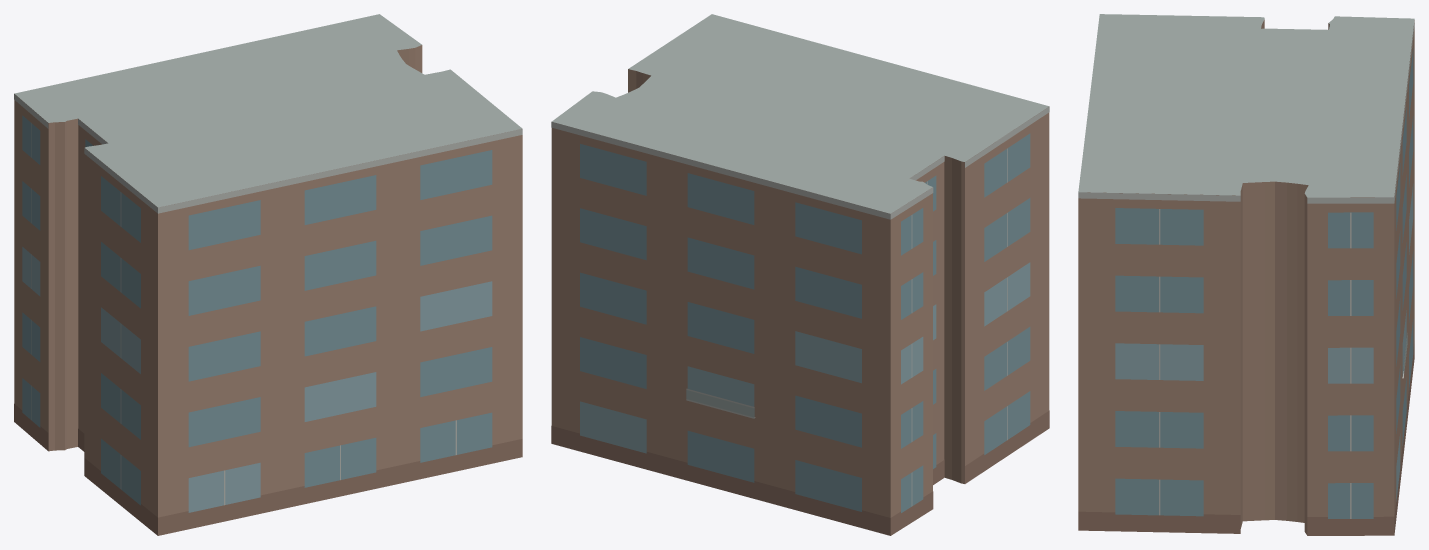
File: survey-upis-32889105.glb
3 views of the same model, side by side, from view 1: azimuth 30°, elevation 25°; view 2: azimuth 150°, elevation 25°; view 3: azimuth 270°, elevation 25° (orthographic). The views are drawn at different scales.
Visible parts, largest first — view 1: survey-upis-32889105.tmp; view 2: survey-upis-32889105.tmp; view 3: survey-upis-32889105.tmp.
Part boxes in pixels (x1,y1,x2,y2): survey-upis-32889105.tmp: (14,14,522,535); survey-upis-32889105.tmp: (551,14,1049,535); survey-upis-32889105.tmp: (1078,14,1414,535).
Bounding box in the file's own units: 15.43 × 13.25 × 11.95.
